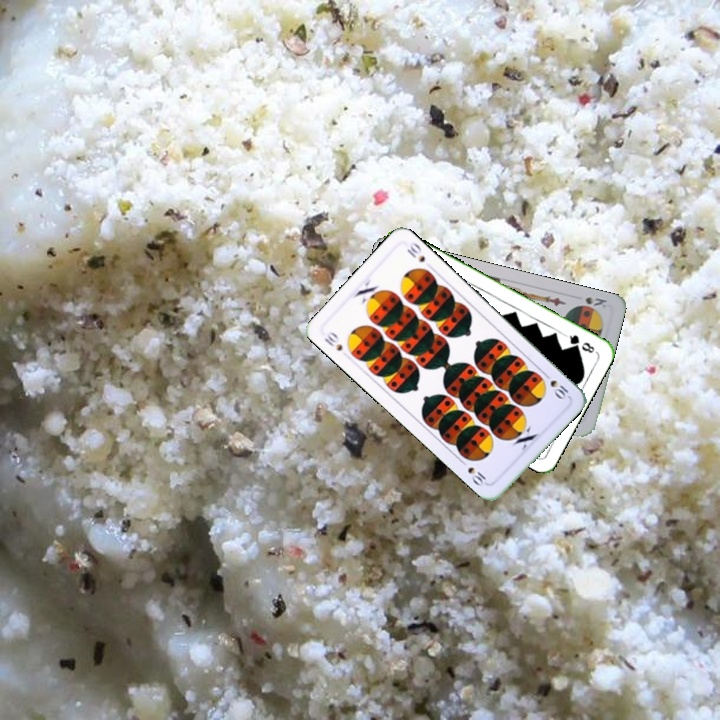G8: (561, 330, 597, 356)
S10: (539, 368, 571, 402), (320, 328, 345, 354)
SK: (581, 293, 609, 310)
